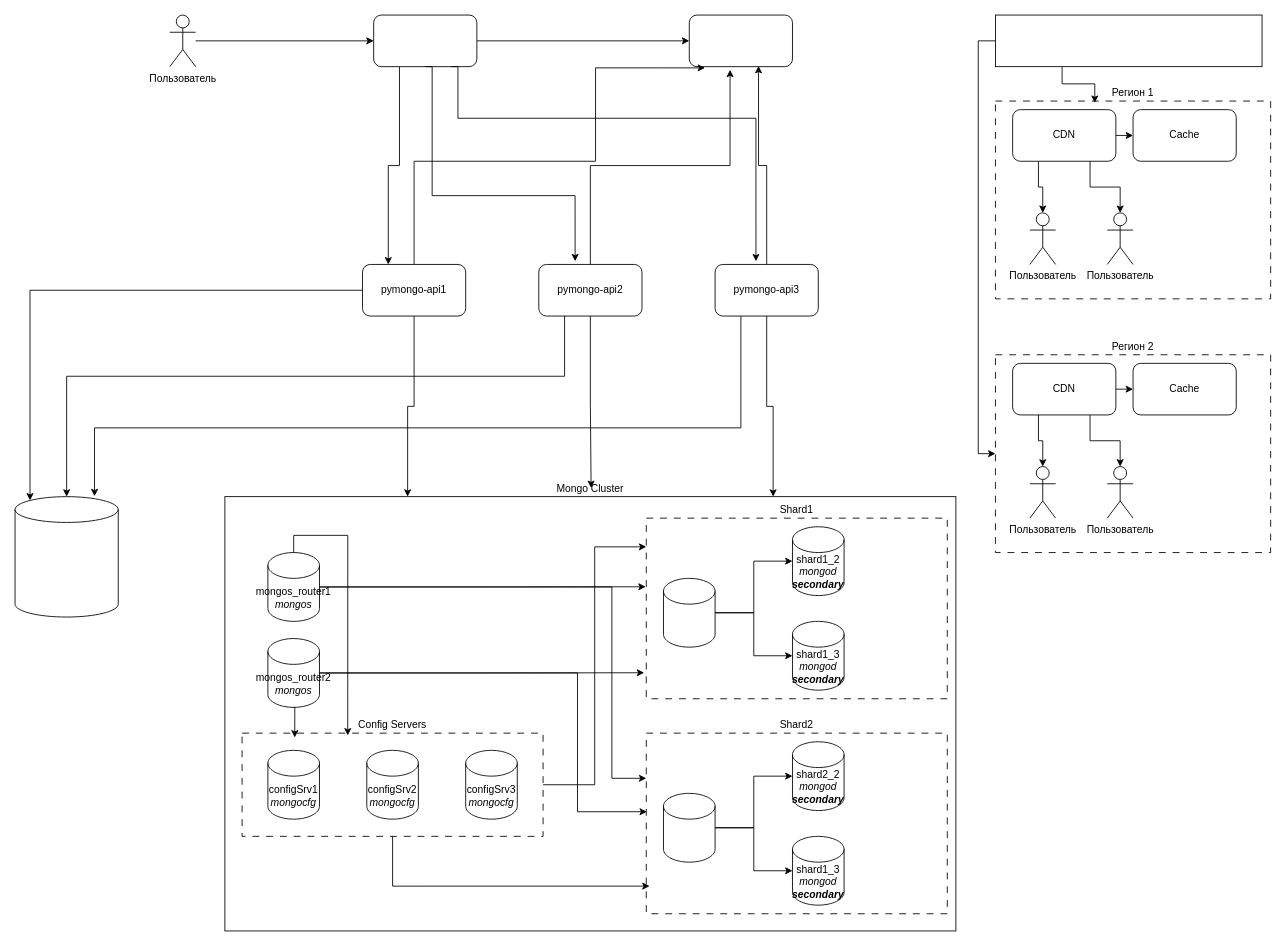
Image size: 1286x946. Some labels were removed from this diagram. The shapes that lost their labels are listed below. From the top down, each one's centre as x and y in pixels, then its label:
pixel 425 40: APISIX Gateway
pixel 740 40: Consul
pixel 1128 40: Основной сервер CDN Yandex Cloud Object Storage
pixel 66 556: Redis
pixel 689 612: shard1_1 mongod primary
pixel 689 827: shard2_1 mongod primary
